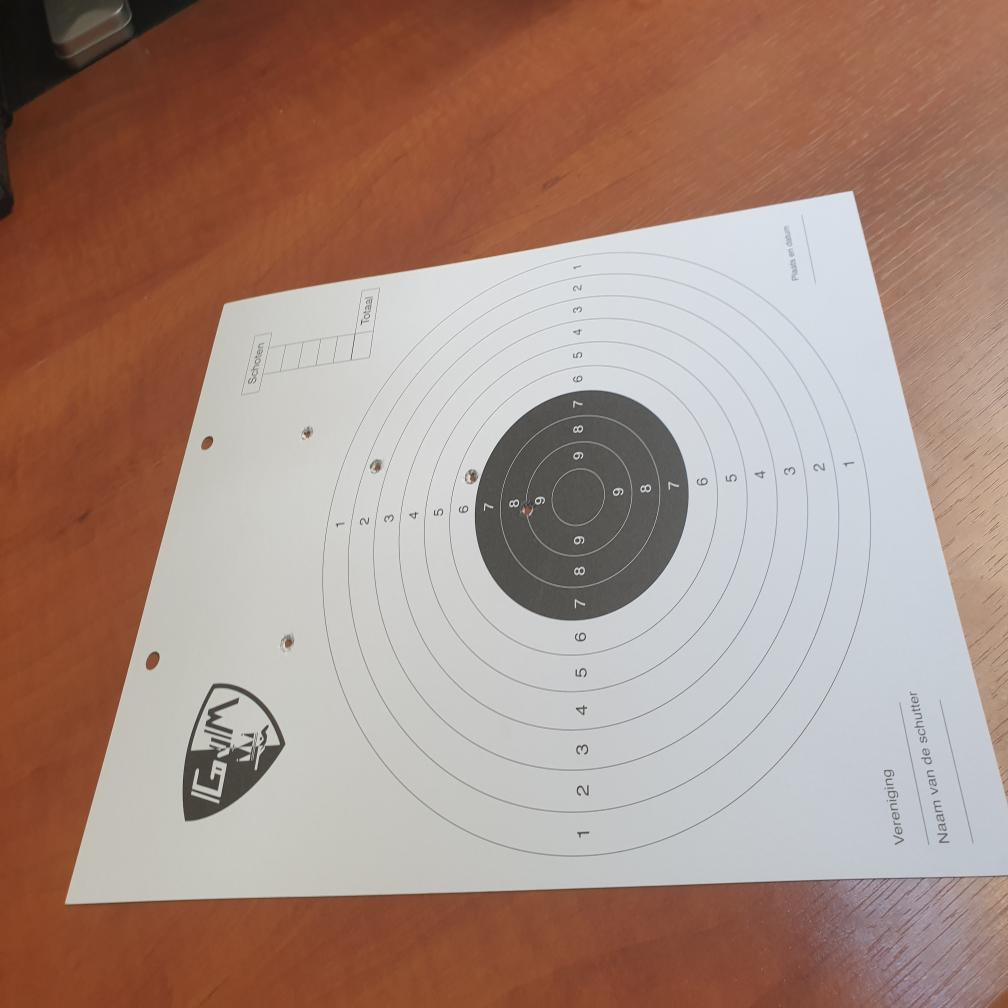0: (278, 632, 296, 655), (299, 424, 314, 443)
2: (368, 457, 384, 476)
6: (463, 467, 479, 486)
9: (519, 498, 536, 518)
Target: (318, 248, 875, 860)
black_contour: (475, 388, 689, 621)
